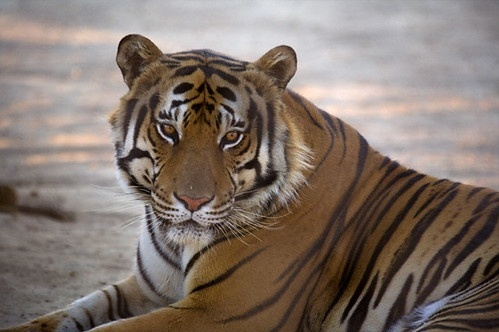tigre: (26, 34, 499, 331)
